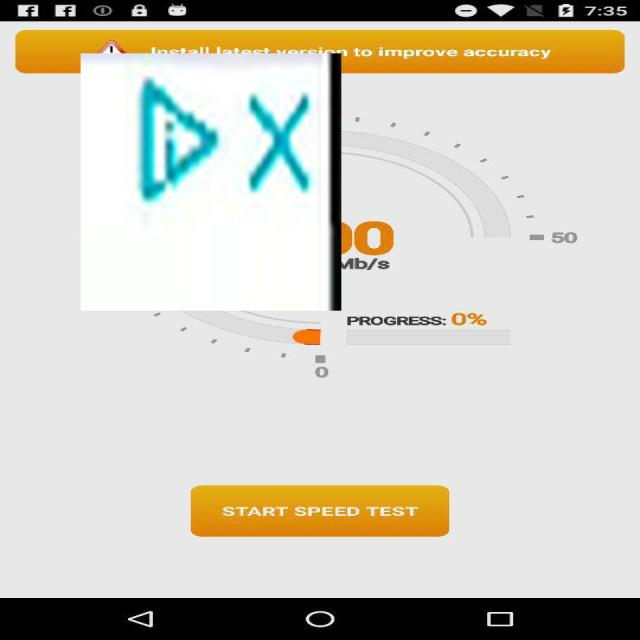sneaking: (81, 53, 341, 311)
